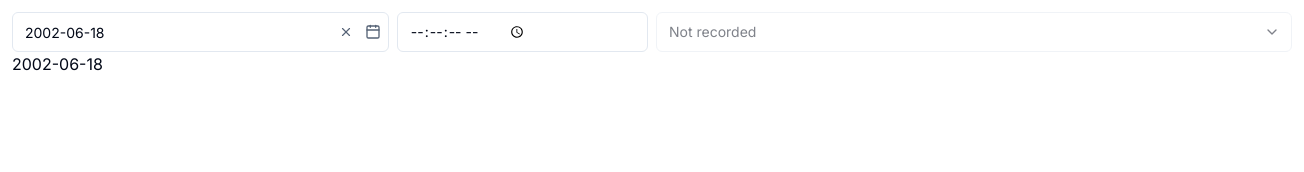
Test: DiveStartTimeField on a dive whose time of day was never recorded › puts the typed time in the zone picked for it
Step 1. Type "10:30" into the time field named "Time" → (522, 32), box [397,12,648,52]
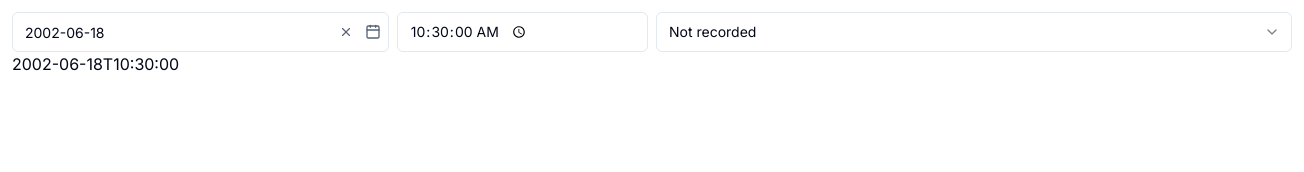
Step 2. Select "UTC+05:45" in the dropdown named "UTC offset" → (974, 32), box [656,12,1292,52]
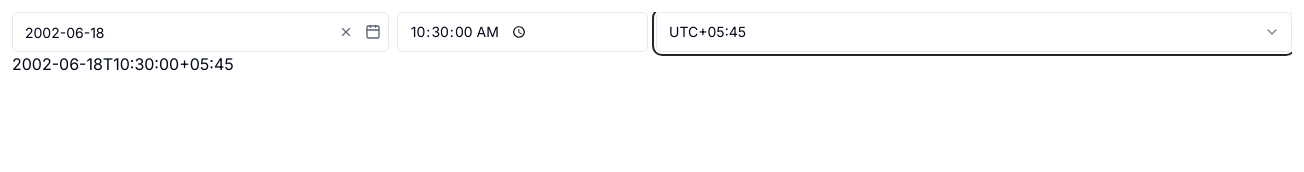
Expected: the option "Not recorded" is not shown
Expected: the text with test id "committed" reads "2002-06-18T10:30:00+05:45", [12,54,234,74]
